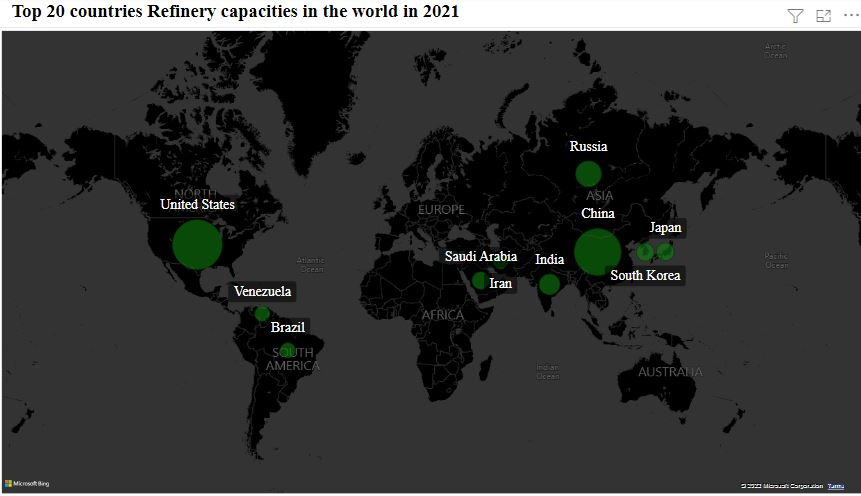

What the dashboard file says about the page in this screenshot:
{"tool":"powerbi","page":{"name":"Top 20 Refinery capacity","canvas":[1280,720],"ordinal":7},"visuals":[{"type":"shape","box":[31.7,0,1248.5,54.7],"z":0},{"type":"textbox","box":[14.4,0,1248.5,63.4],"z":1000},{"type":"map","fields":{"Size":["Sum(World Refinery.2021)"],"Category":["World Refinery.Country"]},"box":[0,43.2,1248.5,676.8],"z":2000}]}

Visuals, with their boxes in screenshot pixels (x1, y1, x2, y2), scaled from the page's 1280x720 canvas onto the 861x496 screenshot:
shape: detection(21, 0, 860, 38)
textbox: detection(10, 0, 849, 44)
map - Sum(World Refinery.2021) x World Refinery.Country: detection(0, 30, 840, 495)
